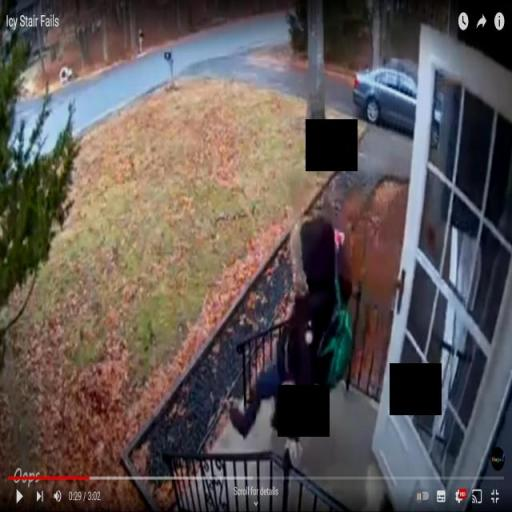Fall: (225, 209, 364, 471)
